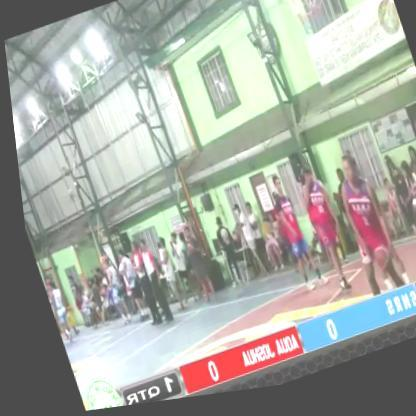basketball: (355, 246, 389, 287)
rim: (274, 0, 351, 74)
